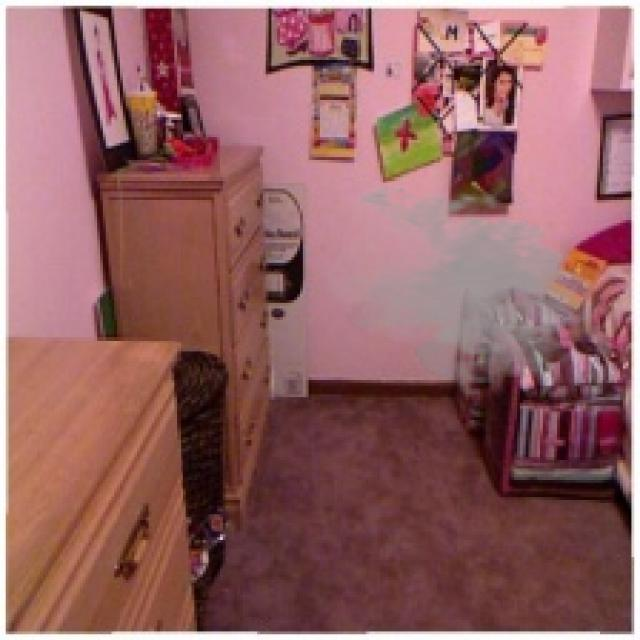smoke: (317, 180, 600, 400)
